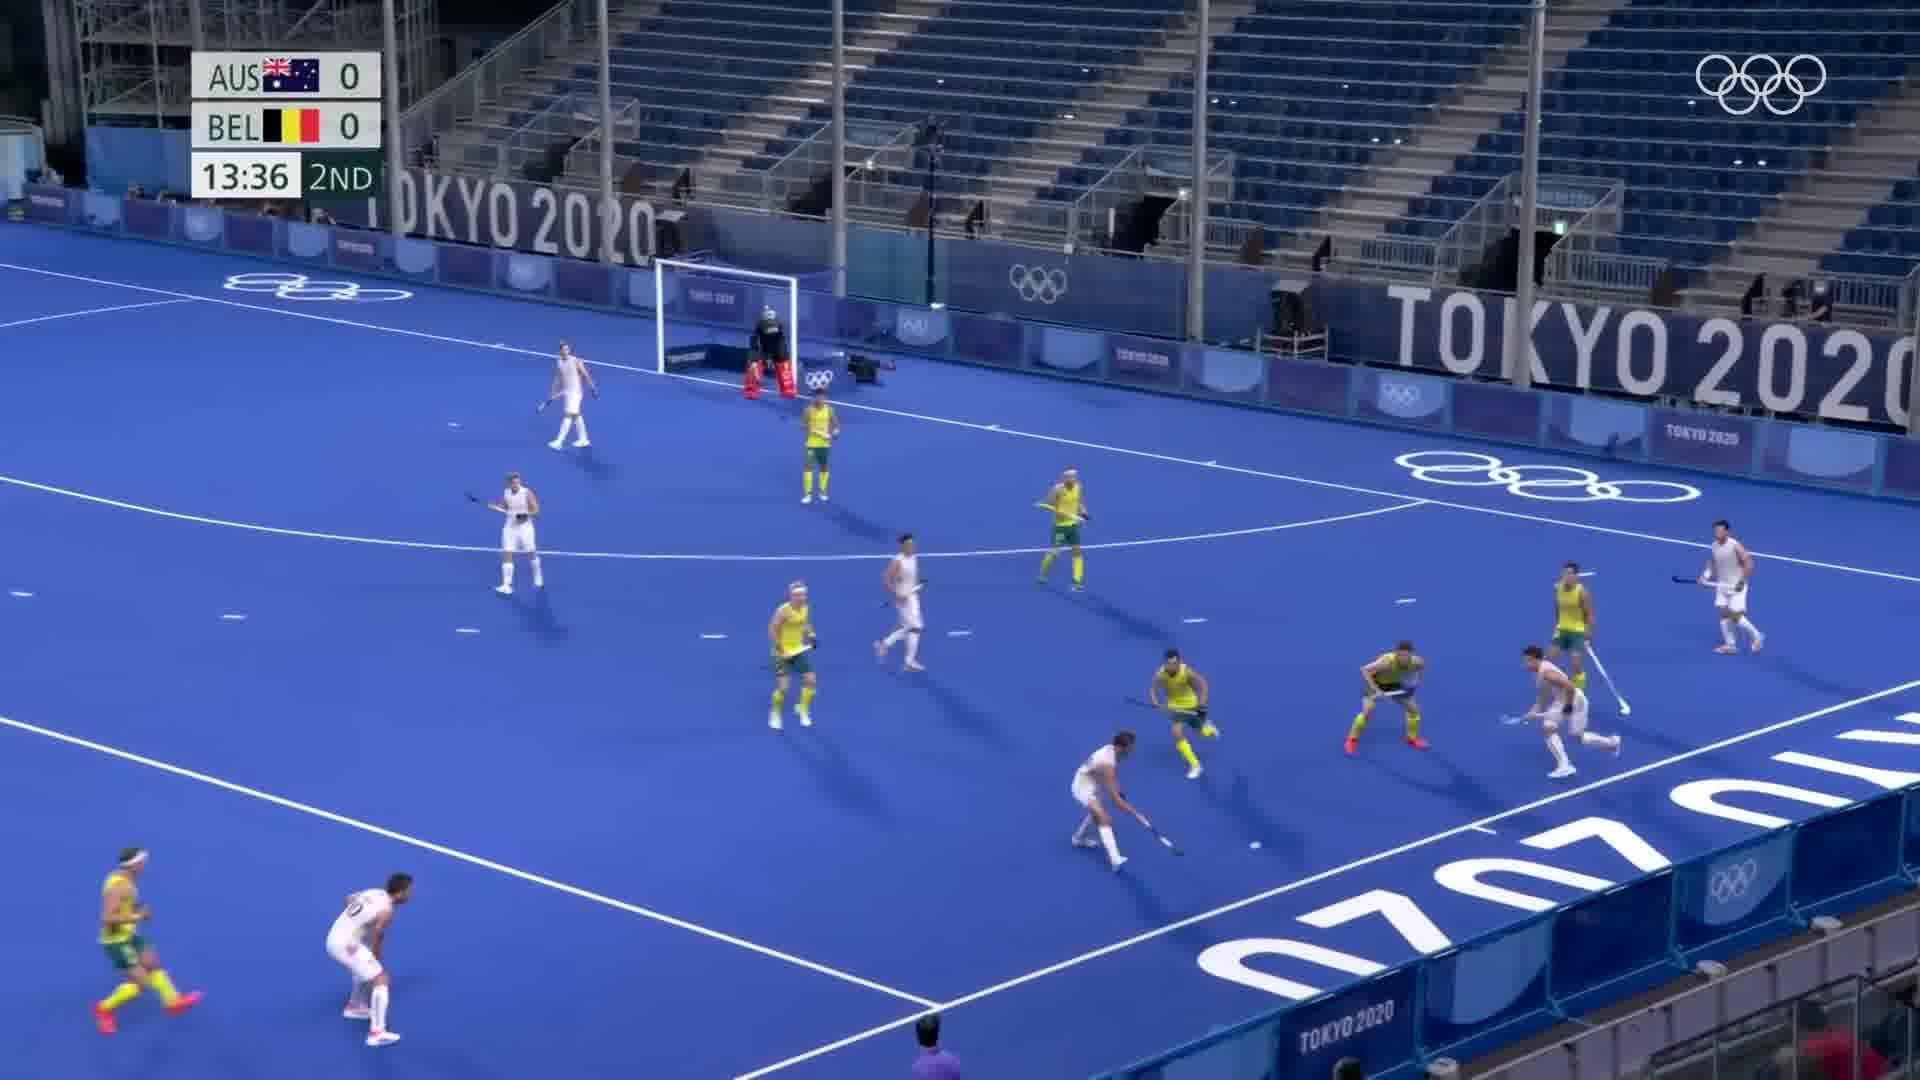ball: (1241, 829, 1282, 855)
